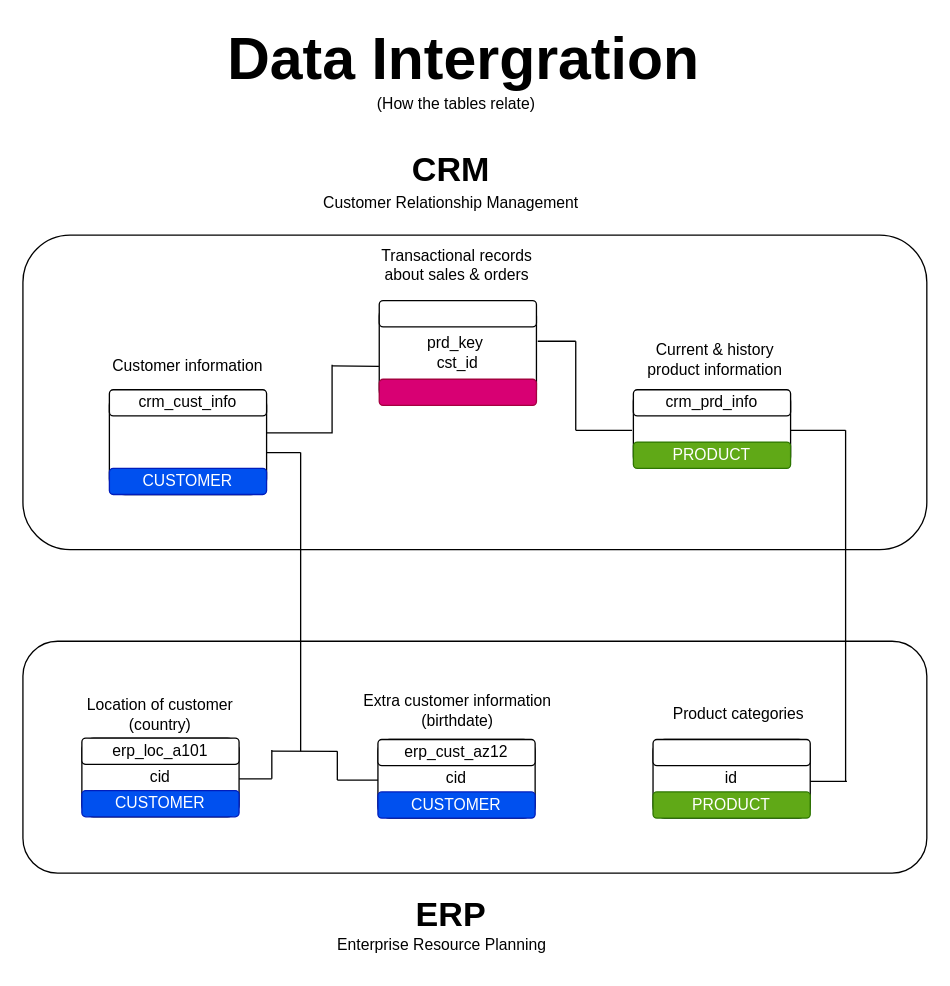
The diagram is 950 pixels wide and 986 high, and some of its shapes have lost their labels. Each missing label, with the box of its shape:
crm_sales_details: (378, 299, 536, 327)
cst_id cst_key: (108, 388, 267, 495)
erp_px_cat_g1v2: (652, 738, 810, 766)
prd_key: (632, 388, 791, 468)
SALES: (378, 378, 536, 405)
